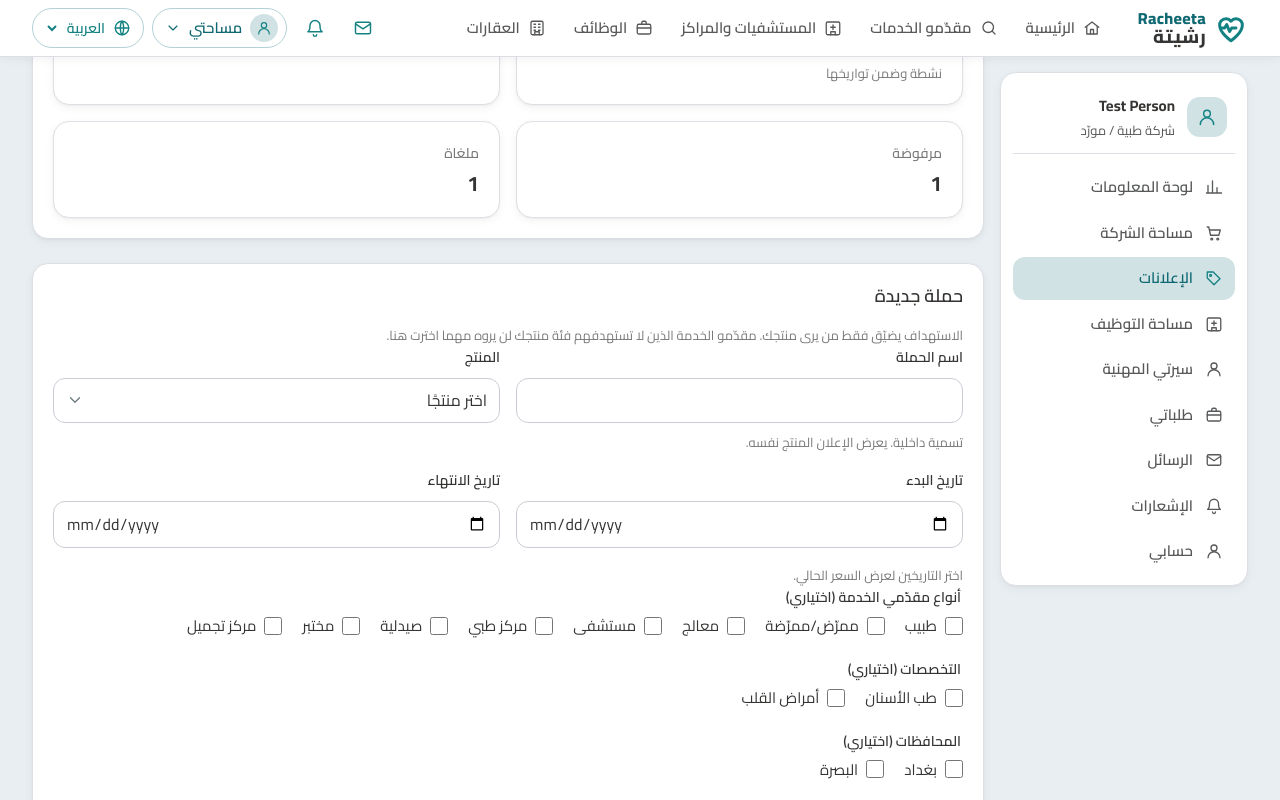
it: Company advertising workspace › shows backend validation errors on the form fields
The width and height of the screenshot is (1280, 800).
(page scrolled)
Type "X" into the field labelled "اسم الحملة".
click(740, 400); type("X")  # box [516,378,963,423]
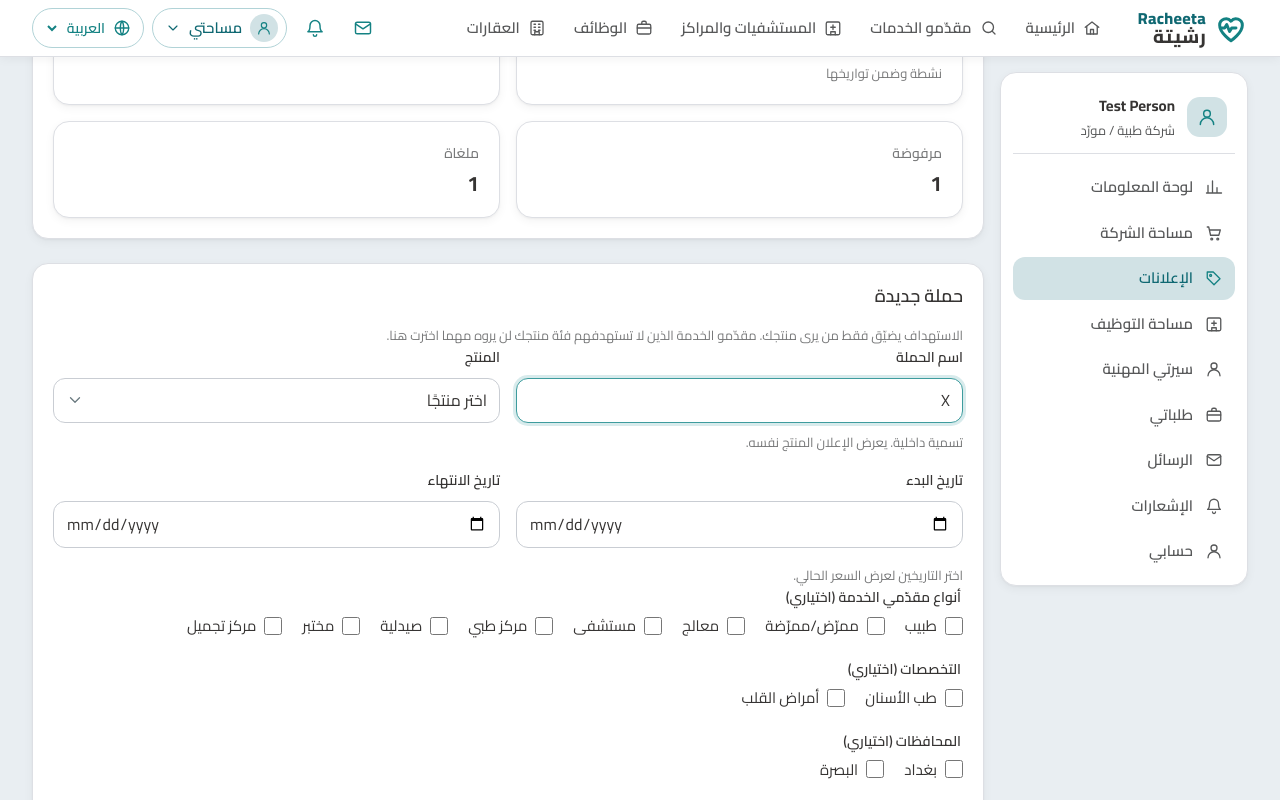
Select "Dental chair" in the dropdown labelled "المنتج" at (276, 400), box [53,378,500,423]
(page scrolled)
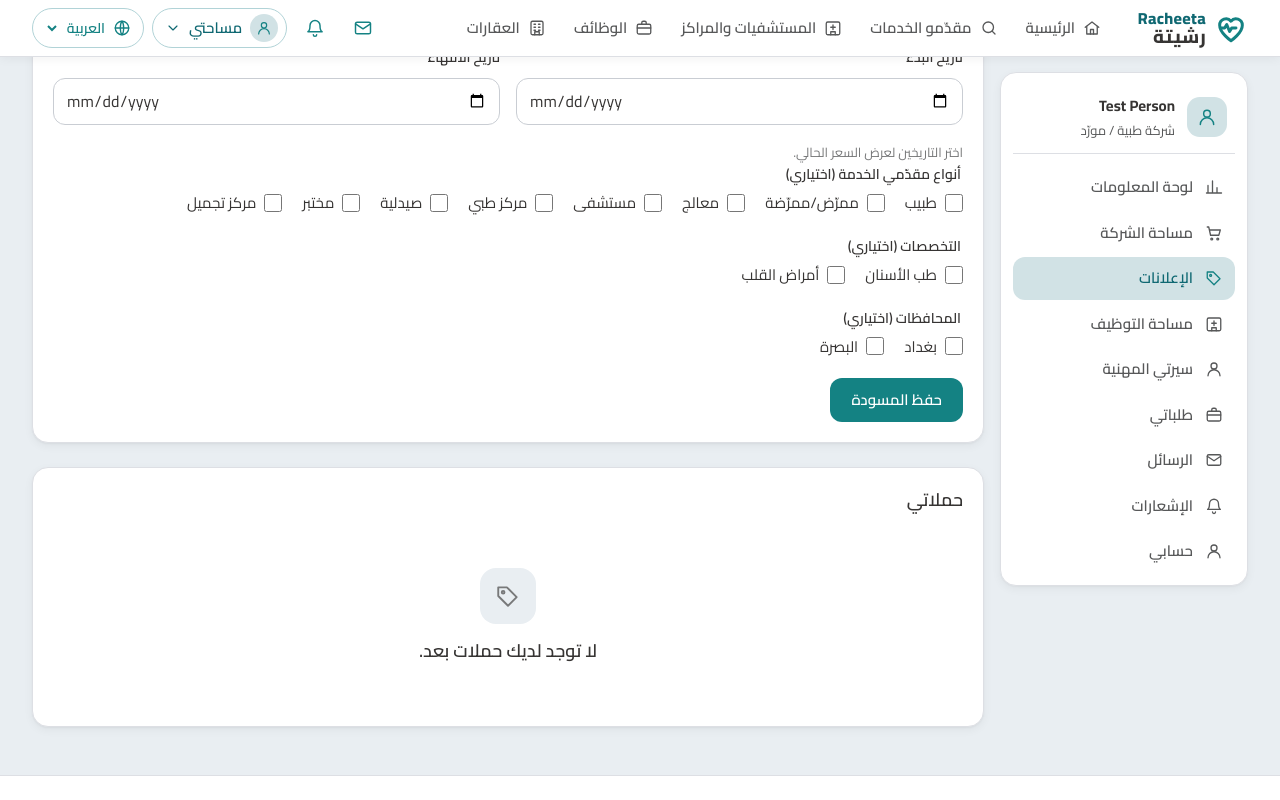
Click the button "حفظ المسودة".
click(897, 400)  # box [830,378,963,422]
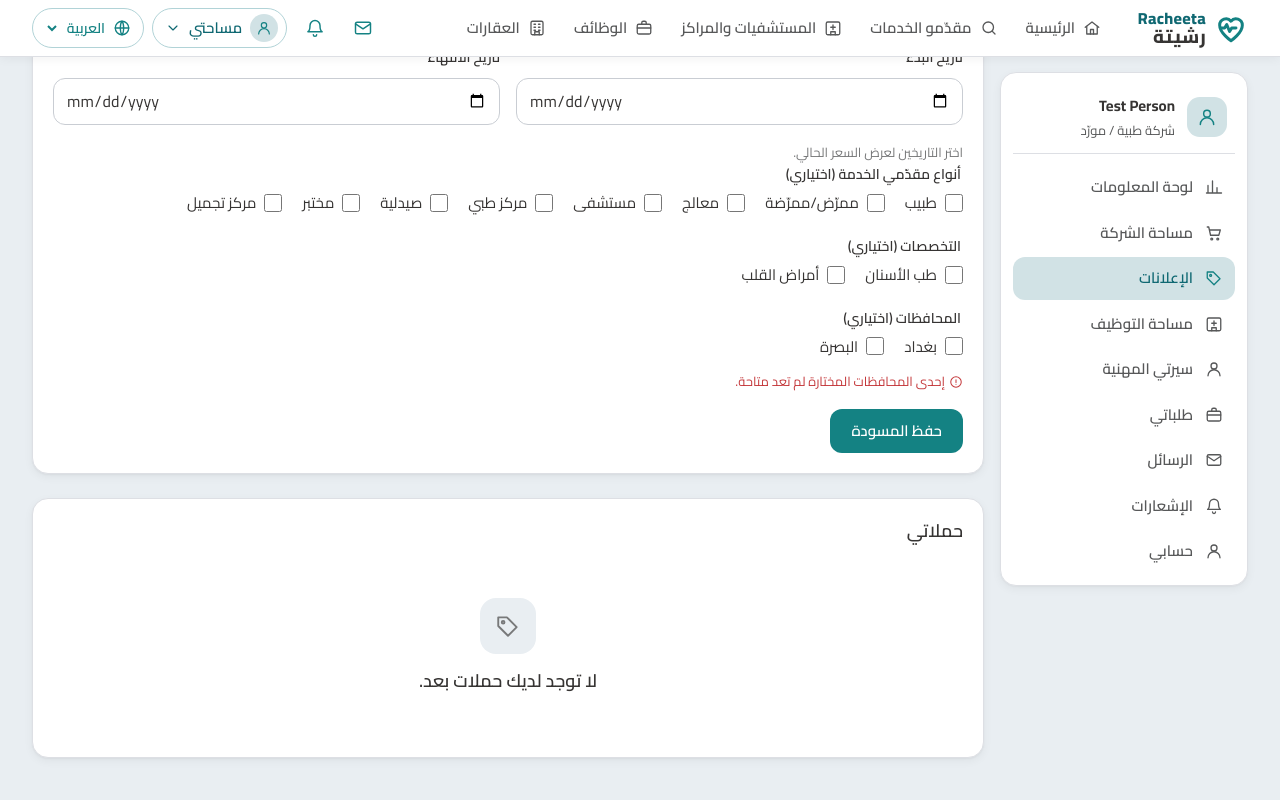
Expected: the text "إحدى المحافظات المختارة لم تعد متاحة." is shown, [735,370,963,394]
